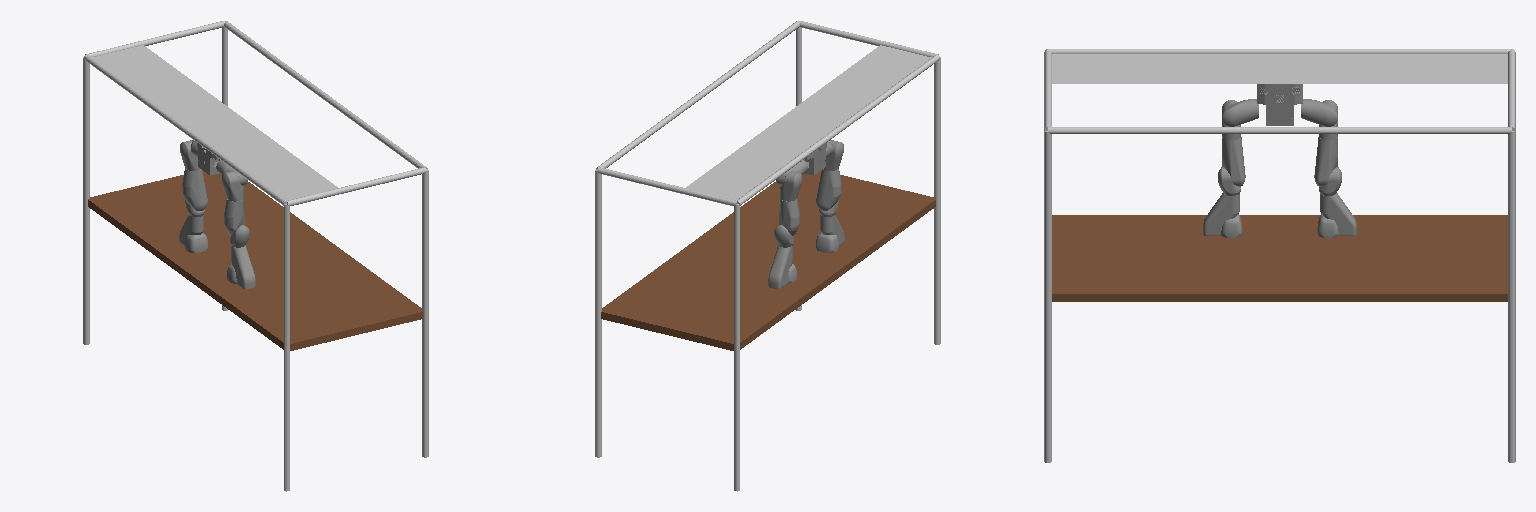
--- Render facts (derived) ---
3 views of the same robot in one strip: view 1: azimuth 30°, elevation 25°; view 2: azimuth 150°, elevation 25°; view 3: azimuth 270°, elevation 25° (orthographic).
Model repair_full with 43 links and 42 joints (15 revolute, 27 fixed), rooted at world, posed every joint at zero.
Visible links, largest first — view 1: table_top_link, sliding_guide_link, obar4_link, obar3_link, leg3_link, leg2_link, vbar3_link, vbar2_link, obar2_link, leg4_link, vbar4_link, arm_1_3 (+3 smaller); view 2: table_top_link, sliding_guide_link, obar4_link, obar3_link, leg1_link, leg4_link, vbar1_link, vbar4_link, obar1_link, leg2_link, vbar2_link, arm_2_3 (+3 smaller); view 3: table_top_link, sliding_guide_link, obar3_link, obar4_link, torso_1, leg1_link, leg3_link, vbar1_link, vbar3_link, arm_2_5, arm_1_5, arm_2_3 (+5 smaller).
Boxes of the visible links, x1,y1,x2,y2 form: table_top_link: (88,170,422,350); sliding_guide_link: (92,45,337,200); obar4_link: (84,55,286,205); obar3_link: (224,21,427,169); leg3_link: (422,312,428,457); leg2_link: (83,199,89,344); vbar3_link: (422,170,428,311); vbar2_link: (83,57,89,199); obar2_link: (287,167,426,205); leg4_link: (284,346,289,491); vbar4_link: (284,204,289,345); arm_1_3: (182,169,207,210); table_top_link: (601,170,935,350); sliding_guide_link: (686,45,931,200); obar4_link: (737,55,939,205); obar3_link: (596,21,799,169); leg1_link: (595,312,601,457); leg4_link: (934,199,940,344); vbar1_link: (595,170,601,311); vbar4_link: (934,57,940,199); obar1_link: (597,167,736,205); leg2_link: (734,346,739,491); vbar2_link: (734,204,739,345); arm_2_3: (816,169,841,210); table_top_link: (1052,215,1507,301); sliding_guide_link: (1052,54,1507,83); obar3_link: (1048,127,1511,133); obar4_link: (1049,49,1510,53); torso_1: (1257,84,1302,125); leg1_link: (1508,294,1515,462); leg3_link: (1044,294,1051,462); vbar1_link: (1508,131,1515,294); vbar3_link: (1044,131,1051,294); arm_2_5: (1203,193,1239,235); arm_1_5: (1320,193,1356,235); arm_2_3: (1222,137,1245,186).
Bounding box of the posed robot: 1.04 × 2.54 × 1.99 m (x, y, z).
15 mesh visuals loaded from 9 distinct referenced files (8 binary STL); not drawn: 1 (reference not matched to a file when rendering).

The robot description file, URDF, robot "repair_full":
<?xml version="1.0" ?>
<!-- =================================================================================== -->
<!-- |    This document was autogenerated by xacro from src/repair_ros_robot/repair_urdf/urdf/repair_full.urdf.xacro | -->
<!-- |    EDITING THIS FILE BY HAND IS NOT RECOMMENDED                                 | -->
<!-- =================================================================================== -->
<robot name="repair_full">
  <material name="grey">
    <color rgba="0.5 0.5 0.5 1"/>
  </material>
  <material name="dark_grey">
    <color rgba="0.3 0.3 0.3 1"/>
  </material>
  <material name="red">
    <color rgba="1.0 0.0 0.0 1"/>
  </material>
  <material name="green">
    <color rgba="0.0 1.0 0.0 1"/>
  </material>
  <material name="blue">
    <color rgba="0.13333333333333333 0.25882352941176473 0.7803921568627451 1.0"/>
  </material>
  <material name="darkblue">
    <color rgba="0.0 0.3 0.9 1"/>
  </material>
  <material name="darkred">
    <color rgba="0.55 0.0 0.0 1"/>
  </material>
  <material name="dark">
    <color rgba="0.6 0.6 0.6 1"/>
  </material>
  <material name="wood">
    <color rgba="0.522 0.369 0.259 0.8"/>
  </material>
  <material name="silver_gray">
    <color rgba="0.8 0.8 0.8 0.8"/>
  </material>
  <!-- macro for generating the urdf associated with a single arm of the RePair platform -->
  <!-- id: specifies the id of the arm (e.g. 0 for left arm and 1 for right) -->
  <!-- base_link: name of base link a the single arm -->
  <!-- is_sliding_wrist: whether to add a sliding joint along the wrist second d.o.f.
    (true -> yes), everything else -> no. This is used to generate the URDF for the optimization.  -->
  <!-- gen_coll: whether to add the approximate collision  model of the platform -->
  <!-- use_updated_wrist: visual parameter. if true, we load the latest meshes (which are adapted to the
results of the optimization), otherwise we go with the old ones (generated for a spherical wrist) -->
  <!-- w.r.t world  -->
  <!-- 0.0  -->
  <!-- 2.4405495 -->
  <!-- 7.8724534e-01 -->
  <!-- 2.8848438e+00-->
  <!-- 6.0145584e-01 -->
  <!-- 2.7650803e+00 -->
  <!-- 1.8854765e+00 -->
  <!-- 2.4405495 -->
  <!-- Origin -->
  <!-- Only when working with Gazebo Xbot Control -->
  <!-- DO NOT USE WITH ROS_CONTROL AND MOVEIT -->
  <!-- <xacro:include filename="$(find repair_urdf)/urdf/gazebo/xbot.gazebo.xacro" /> -->
  <gazebo>
    <plugin filename="libgazebo_ros_control.so" name="ros_control">
      <!--robotNamespace>/</robotNamespace-->
      <!--robotSimType>gazebo_ros_control/DefaultRobotHWSim</robotSimType-->
    </plugin>
  </gazebo>
  <link name="world"/>
  <link name="table_top_link">
    <visual>
      <origin xyz="0.0 0.0 0.975"/>
      <geometry>
        <box size="1.0 2.5 0.05"/>
      </geometry>
      <material name="wood"/>
    </visual>
    <collision>
      <origin xyz="0.0 0.0 0.975"/>
      <geometry>
        <box size="1.0 2.5 0.05"/>
      </geometry>
    </collision>
  </link>
  <joint name="table_top_link_joint" type="fixed">
    <parent link="world"/>
    <child link="table_top_link"/>
  </joint>
  <joint name="leg1_joint" type="fixed">
    <parent link="table_top_link"/>
    <origin rpy="0 0 0" xyz="0.5 1.25 1.0"/>
    <child link="leg1_link"/>
  </joint>
  <link name="leg1_link">
    <visual>
      <origin rpy="0 0 0" xyz="0.0 0.0 -0.5"/>
      <geometry>
        <cylinder length="1.0" radius="0.02"/>
      </geometry>
      <material name="silver_gray"/>
    </visual>
    <collision>
      <origin rpy="0.0 0.0 0.0" xyz="0.0 0.0 -0.5"/>
      <geometry>
        <cylinder length="1.0" radius="0.02"/>
      </geometry>
    </collision>
  </link>
  <joint name="vbar1_joint" type="fixed">
    <parent link="leg1_link"/>
    <origin rpy="0 0 0" xyz="0 0 0.485"/>
    <child link="vbar1_link"/>
  </joint>
  <link name="vbar1_link">
    <visual>
      <origin rpy="0 0 0" xyz="0.0 0.0 0"/>
      <geometry>
        <cylinder length="0.97" radius="0.02"/>
      </geometry>
      <material name="silver_gray"/>
    </visual>
    <collision>
      <origin rpy="0.0 0.0 0.0" xyz="0.0 0.0 0"/>
      <geometry>
        <cylinder length="0.97" radius="0.02"/>
      </geometry>
    </collision>
  </link>
  <joint name="leg2_joint" type="fixed">
    <parent link="table_top_link"/>
    <origin rpy="0 0 0" xyz="-0.5 1.25 1.0"/>
    <child link="leg2_link"/>
  </joint>
  <link name="leg2_link">
    <visual>
      <origin rpy="0 0 0" xyz="0.0 0.0 -0.5"/>
      <geometry>
        <cylinder length="1.0" radius="0.02"/>
      </geometry>
      <material name="silver_gray"/>
    </visual>
    <collision>
      <origin rpy="0.0 0.0 0.0" xyz="0.0 0.0 -0.5"/>
      <geometry>
        <cylinder length="1.0" radius="0.02"/>
      </geometry>
    </collision>
  </link>
  <joint name="vbar2_joint" type="fixed">
    <parent link="leg2_link"/>
    <origin rpy="0 0 0" xyz="0 0 0.485"/>
    <child link="vbar2_link"/>
  </joint>
  <link name="vbar2_link">
    <visual>
      <origin rpy="0 0 0" xyz="0.0 0.0 0"/>
      <geometry>
        <cylinder length="0.97" radius="0.02"/>
      </geometry>
      <material name="silver_gray"/>
    </visual>
    <collision>
      <origin rpy="0.0 0.0 0.0" xyz="0.0 0.0 0"/>
      <geometry>
        <cylinder length="0.97" radius="0.02"/>
      </geometry>
    </collision>
  </link>
  <joint name="leg3_joint" type="fixed">
    <parent link="table_top_link"/>
    <origin rpy="0 0 0" xyz="0.5 -1.25 1.0"/>
    <child link="leg3_link"/>
  </joint>
  <link name="leg3_link">
    <visual>
      <origin rpy="0 0 0" xyz="0.0 0.0 -0.5"/>
      <geometry>
        <cylinder length="1.0" radius="0.02"/>
      </geometry>
      <material name="silver_gray"/>
    </visual>
    <collision>
      <origin rpy="0.0 0.0 0.0" xyz="0.0 0.0 -0.5"/>
      <geometry>
        <cylinder length="1.0" radius="0.02"/>
      </geometry>
    </collision>
  </link>
  <joint name="vbar3_joint" type="fixed">
    <parent link="leg3_link"/>
    <origin rpy="0 0 0" xyz="0 0 0.485"/>
    <child link="vbar3_link"/>
  </joint>
  <link name="vbar3_link">
    <visual>
      <origin rpy="0 0 0" xyz="0.0 0.0 0"/>
      <geometry>
        <cylinder length="0.97" radius="0.02"/>
      </geometry>
      <material name="silver_gray"/>
    </visual>
    <collision>
      <origin rpy="0.0 0.0 0.0" xyz="0.0 0.0 0"/>
      <geometry>
        <cylinder length="0.97" radius="0.02"/>
      </geometry>
    </collision>
  </link>
  <joint name="leg4_joint" type="fixed">
    <parent link="table_top_link"/>
    <origin rpy="0 0 0" xyz="-0.5 -1.25 1.0"/>
    <child link="leg4_link"/>
  </joint>
  <link name="leg4_link">
    <visual>
      <origin rpy="0 0 0" xyz="0.0 0.0 -0.5"/>
      <geometry>
        <cylinder length="1.0" radius="0.02"/>
      </geometry>
      <material name="silver_gray"/>
    </visual>
    <collision>
      <origin rpy="0.0 0.0 0.0" xyz="0.0 0.0 -0.5"/>
      <geometry>
        <cylinder length="1.0" radius="0.02"/>
      </geometry>
    </collision>
  </link>
  <joint name="vbar4_joint" type="fixed">
    <parent link="leg4_link"/>
    <origin rpy="0 0 0" xyz="0 0 0.485"/>
    <child link="vbar4_link"/>
  </joint>
  <link name="vbar4_link">
    <visual>
      <origin rpy="0 0 0" xyz="0.0 0.0 0"/>
      <geometry>
        <cylinder length="0.97" radius="0.02"/>
      </geometry>
      <material name="silver_gray"/>
    </visual>
    <collision>
      <origin rpy="0.0 0.0 0.0" xyz="0.0 0.0 0"/>
      <geometry>
        <cylinder length="0.97" radius="0.02"/>
      </geometry>
    </collision>
  </link>
  <joint name="obar1_joint" type="fixed">
    <parent link="vbar1_link"/>
    <origin rpy="0 -1.57079632679 0" xyz="-0.5 0 0.485"/>
    <child link="obar1_link"/>
  </joint>
  <link name="obar1_link">
    <visual>
      <origin rpy="0 0 0" xyz="0.0 0.0 0"/>
      <geometry>
        <cylinder length="1.0" radius="0.02"/>
      </geometry>
      <material name="silver_gray"/>
    </visual>
    <collision>
      <origin rpy="0.0 0.0 0.0" xyz="0.0 0.0 0"/>
      <geometry>
        <cylinder length="1.0" radius="0.02"/>
      </geometry>
    </collision>
  </link>
  <joint name="obar2_joint" type="fixed">
    <parent link="vbar3_link"/>
    <origin rpy="0 -1.57079632679 0" xyz="-0.5 0 0.485"/>
    <child link="obar2_link"/>
  </joint>
  <link name="obar2_link">
    <visual>
      <origin rpy="0 0 0" xyz="0.0 0.0 0"/>
      <geometry>
        <cylinder length="1.0" radius="0.02"/>
      </geometry>
      <material name="silver_gray"/>
    </visual>
    <collision>
      <origin rpy="0.0 0.0 0.0" xyz="0.0 0.0 0"/>
      <geometry>
        <cylinder length="1.0" radius="0.02"/>
      </geometry>
    </collision>
  </link>
  <joint name="obar3_joint" type="fixed">
    <parent link="vbar3_link"/>
    <origin rpy="-1.57079632679 0 0" xyz="0 1.25 0.485"/>
    <child link="obar3_link"/>
  </joint>
  <link name="obar3_link">
    <visual>
      <origin rpy="0 0 0" xyz="0.0 0.0 0"/>
      <geometry>
        <cylinder length="2.5" radius="0.02"/>
      </geometry>
      <material name="silver_gray"/>
    </visual>
    <collision>
      <origin rpy="0.0 0.0 0.0" xyz="0.0 0.0 0"/>
      <geometry>
        <cylinder length="2.5" radius="0.02"/>
      </geometry>
    </collision>
  </link>
  <joint name="obar4_joint" type="fixed">
    <parent link="vbar4_link"/>
    <origin rpy="-1.57079632679 0 0" xyz="0 1.25 0.485"/>
    <child link="obar4_link"/>
  </joint>
  <link name="obar4_link">
    <!-- dummy intertia to make Gazebo urdf2sdf converter work -->
    <visual>
      <origin rpy="0 0 0" xyz="0.0 0.0 0"/>
      <geometry>
        <cylinder length="2.5" radius="0.02"/>
      </geometry>
      <material name="silver_gray"/>
    </visual>
    <collision>
      <origin rpy="0.0 0.0 0.0" xyz="0.0 0.0 0"/>
      <geometry>
        <cylinder length="2.5" radius="0.02"/>
      </geometry>
    </collision>
  </link>
  <joint name="sliding_guide_joint" type="fixed">
    <parent link="obar2_link"/>
    <origin rpy="-1.57079632679 0 0" xyz="0.0 1.25 0.3"/>
    <child link="sliding_guide_link"/>
  </joint>
  <link name="sliding_guide_link">
    <visual>
      <origin rpy="0 0 0" xyz="0.0 0.0 0"/>
      <geometry>
        <box size="0.001 0.4 2.5"/>
      </geometry>
      <material name="silver_gray"/>
    </visual>
    <collision>
      <origin rpy="0.0 0.0 0.0" xyz="0.0 0.0 0"/>
      <geometry>
        <cylinder length="2.5" radius="0.02"/>
      </geometry>
    </collision>
  </link>
  <joint name="working_surface_joint" type="fixed">
    <parent link="sliding_guide_link"/>
    <origin rpy="0.0 -1.57079632679 3.14159265359" xyz="-0.97 0 0"/>
    <child link="working_surface_link"/>
  </joint>
  <link name="working_surface_link">
    <!-- Huge inertia (does not matter, is fixed to the world)-->
    <inertial>
      <mass value="1000"/>
      <origin xyz="0 0 0"/>
      <inertia ixx="0" ixy="0" ixz="0" iyy="0" iyz="0" izz="0"/>
    </inertial>
  </link>
  <material name="camera_aluminum">
    <color rgba="0.5 0.5 0.5 1"/>
  </material>
  <!-- camera body, with origin at bottom screw mount -->
  <joint name="camera_joint" type="fixed">
    <origin rpy="0.0009783 1.1836725 0" xyz="0.0857 0.0000476009 -0.273184"/>
    <parent link="torso_1"/>
    <child link="camera_bottom_screw_frame"/>
  </joint>
  <link name="camera_bottom_screw_frame"/>
  <joint name="camera_link_joint" type="fixed">
    <origin rpy="0 0 0" xyz="0 0.0175 0.0125"/>
    <parent link="camera_bottom_screw_frame"/>
    <child link="camera_link"/>
  </joint>
  <link name="camera_link">
    <visual>
      <origin rpy="1.5707963267948966 0 1.5707963267948966" xyz="0.0149 -0.0175 0"/>
      <geometry>
        <!-- <box size="${d435_cam_width} ${d435_cam_height} ${d435_cam_depth}"/> -->
        <mesh filename="package://repair_urdf/meshes/d435.dae"/>
        <!--<mesh filename="package://realsense2_description/meshes/d435/d435.dae" />-->
      </geometry>
      <material name="camera_aluminum"/>
    </visual>
    <collision>
      <origin rpy="0 0 0" xyz="0 -0.0175 0"/>
      <geometry>
        <box size="0.02505 0.09 0.025"/>
      </geometry>
    </collision>
    <inertial>
      <!-- The following are not reliable values, and should not be used for modeling -->
      <mass value="0.564"/>
      <origin xyz="0 0 0"/>
      <inertia ixx="0.003881243" ixy="0.0" ixz="0.0" iyy="0.000498940" iyz="0.0" izz="0.003879257"/>
    </inertial>
  </link>
  <!-- camera depth joints and links -->
  <joint name="camera_depth_joint" type="fixed">
    <origin rpy="0 0 0" xyz="0 0 0"/>
    <parent link="camera_link"/>
    <child link="camera_depth_frame"/>
  </joint>
  <link name="camera_depth_frame"/>
  <joint name="camera_depth_optical_joint" type="fixed">
    <origin rpy="-1.5707963267948966 0 -1.5707963267948966" xyz="0 0 0"/>
    <parent link="camera_depth_frame"/>
    <child link="camera_depth_optical_frame"/>
  </joint>
  <link name="camera_depth_optical_frame"/>
  <!-- camera left IR joints and links -->
  <joint name="camera_left_ir_joint" type="fixed">
    <origin rpy="0 0 0" xyz="0 0.0 0"/>
    <parent link="camera_depth_frame"/>
    <child link="camera_left_ir_frame"/>
  </joint>
  <link name="camera_left_ir_frame"/>
  <joint name="camera_left_ir_optical_joint" type="fixed">
    <origin rpy="-1.5707963267948966 0 -1.5707963267948966" xyz="0 0 0"/>
    <parent link="camera_left_ir_frame"/>
    <child link="camera_left_ir_optical_frame"/>
  </joint>
  <link name="camera_left_ir_optical_frame"/>
  <!-- camera right IR joints and links -->
  <joint name="camera_right_ir_joint" type="fixed">
    <origin rpy="0 0 0" xyz="0 -0.05 0"/>
    <parent link="camera_depth_frame"/>
    <child link="camera_right_ir_frame"/>
  </joint>
  <link name="camera_right_ir_frame"/>
  <joint name="camera_right_ir_optical_joint" type="fixed">
    <origin rpy="-1.5707963267948966 0 -1.5707963267948966" xyz="0 0 0"/>
    <parent link="camera_right_ir_frame"/>
    <child link="camera_right_ir_optical_frame"/>
  </joint>
  <link name="camera_right_ir_optical_frame"/>
  <!-- camera color joints and links -->
  <joint name="camera_color_joint" type="fixed">
    <origin rpy="0 0 0" xyz="0 0.015 0"/>
    <parent link="camera_depth_frame"/>
    <child link="camera_color_frame"/>
  </joint>
  <link name="camera_color_frame"/>
  <joint name="camera_color_optical_joint" type="fixed">
    <origin rpy="-1.5707963267948966 0 -1.5707963267948966" xyz="0 0 0"/>
    <parent link="camera_color_frame"/>
    <child link="camera_color_optical_frame"/>
  </joint>
  <link name="camera_color_optical_frame"/>
  <gazebo reference="camera_link">
    <self_collide>0</self_collide>
    <enable_wind>0</enable_wind>
    <kinematic>0</kinematic>
    <gravity>1</gravity>
    <!--<mu>1</mu>-->
    <mu2>1</mu2>
    <fdir1>0 0 0</fdir1>
    <!--<slip1>0</slip1>
      <slip2>0</slip2>-->
    <kp>1e+13</kp>
    <kd>1</kd>
    <!--<max_vel>0.01</max_vel>
      <min_depth>0</min_depth>-->
    <sensor name="cameracolor" type="camera">
      <camera name="camera">
        <horizontal_fov>1.2112585008840648</horizontal_fov>
        <image>
          <width>640</width>
          <height>480</height>
          <format>RGB_INT8</format>
        </image>
        <clip>
          <near>0.1</near>
          <far>100</far>
        </clip>
        <noise>
          <type>gaussian</type>
          <mean>0.0</mean>
          <stddev>0.007</stddev>
        </noise>
      </camera>
      <always_on>1</always_on>
      <update_rate>30</update_rate>
      <visualize>1</visualize>
    </sensor>
    <sensor name="cameraired1" type="camera">
      <camera name="camera">
        <horizontal_fov>1.4870205226991688</horizontal_fov>
        <image>
          <width>1280</width>
          <height>720</height>
          <format>L_INT8</format>
        </image>
        <clip>
          <near>0.1</near>
          <far>100</far>
        </clip>
        <noise>
          <type>gaussian</type>
          <mean>0.0</mean>
          <stddev>0.05</stddev>
        </noise>
      </camera>
      <always_on>1</always_on>
      <update_rate>90</update_rate>
      <visualize>0</visualize>
    </sensor>
    <sensor name="cameraired2" type="camera">
      <camera name="camera">
        <horizontal_fov>1.4870205226991688</horizontal_fov>
        <image>
          <width>1280</width>
          <height>720</height>
          <format>L_INT8</format>
        </image>
        <clip>
          <near>0.1</near>
          <far>100</far>
        </clip>
        <noise>
          <type>gaussian</type>
          <mean>0.0</mean>
          <stddev>0.05</stddev>
        </noise>
      </camera>
      <always_on>1</always_on>
      <update_rate>90</update_rate>
      <visualize>0</visualize>
    </sensor>
    <sensor name="cameradepth" type="depth">
      <camera name="camera">
        <horizontal_fov>1.4870205226991688</horizontal_fov>
        <image>
          <width>1280</width>
          <height>720</height>
        </image>
        <clip>
          <near>0.1</near>
          <far>100</far>
        </clip>
        <noise>
          <type>gaussian</type>
          <mean>0.0</mean>
          <stddev>0.100</stddev>
        </noise>
      </camera>
      <always_on>1</always_on>
      <update_rate>90</update_rate>
      <visualize>0</visualize>
    </sensor>
  </gazebo>
  <gazebo>
    <plugin filename="librealsense_gazebo_plugin.so" name="camera">
      <prefix>camera</prefix>
      <depthUpdateRate>30.0</depthUpdateRate>
      <colorUpdateRate>30.0</colorUpdateRate>
      <infraredUpdateRate>30.0</infraredUpdateRate>
      <depthTopicName>depth/image_raw</depthTopicName>
      <depthCameraInfoTopicName>depth/camera_info</depthCameraInfoTopicName>
      <colorTopicName>color/image_raw</colorTopicName>
      <colorCameraInfoTopicName>color/camera_info</colorCameraInfoTopicName>
      <infrared1TopicName>infra1/image_raw</infrared1TopicName>
      <infrared1CameraInfoTopicName>infra1/camera_info</infrared1CameraInfoTopicName>
      <infrared2TopicName>infra2/image_raw</infrared2TopicName>
      <infrared2CameraInfoTopicName>infra2/camera_info</infrared2CameraInfoTopicName>
      <colorOpticalframeName>camera_color_optical_frame</colorOpticalframeName>
      <depthOpticalframeName>camera_depth_optical_frame</depthOpticalframeName>
      <infrared1OpticalframeName>camera_left_ir_optical_frame</infrared1OpticalframeName>
      <infrared2OpticalframeName>camera_right_ir_optical_frame</infrared2OpticalframeName>
      <rangeMinDepth>0.2</rangeMinDepth>
      <rangeMaxDepth>1.0</rangeMaxDepth>
      <pointCloud>True</pointCloud>
      <pointCloudTopicName>depth/color/points</pointCloudTopicName>
      <pointCloudCutoff>0.25</pointCloudCutoff>
      <pointCloudCutoffMax>1.0</pointCloudCutoffMax>
    </plugin>
  </gazebo>
  <!-- <link name="dummy_prismatic_link"/> -->
  <link name="torso_1">
    <inertial>
      <origin xyz="0.0004977651 -0.00042604032 -0.16838189"/>
      <mass value="8.7077745"/>
      <inertia ixx="0.11857828999999999" ixy="2.0401988e-05" ixz="1.2279510999999998e-05" iyy="0.08073399199999999" iyz="7.0011267999999996e-06" izz="0.054100211999999995"/>
    </inertial>
    <visual>
      <geometry>
        <mesh filename="package://repair_urdf/meshes/mesh_torso-yaw.stl" scale="0.001 0.001 0.001"/>
      </geometry>
      <material name="dark"/>
    </visual>
    <collision>
      <geometry>
        <mesh filename="package://repair_urdf/meshes/simplified/mesh_torso-yaw.stl" scale="0.001 0.001 0.001"/>
      </geometry>
    </collision>
  </link>
  <!-- <joint name="j_torso_base" type="fixed">
            <xacro:insert_block name="origin" />
            <parent link="${parent}" />
            <child link="dummy_prismatic_link"/>
            <axis xyz="0 0 1"/>
            <limit lower="${j_prismatic_lower[0]/2}" upper= "${j_prismatic_upper[0]/2}" effort="${j_prismatic_torque[0]}" velocity="${j_prismatic_velocity[0]}"/>
        </joint> -->
  <!-- torso -->
  <joint name="j_torso_1" type="revolute">
    <parent link="sliding_guide_link"/>
    <child link="torso_1"/>
    <axis xyz="0 0 1"/>
    <origin rpy="1.570796326795 0.0 1.570796326795" xyz="0.0 0.0 0.0"/>
    <limit effort="147.0" lower="-2.6" upper="2.6" velocity="3.86"/>
  </joint>
  <!-- torso  -->
  <link name="arm_2_1">
    <inertial>
      <origin xyz="0.010200651000000002 -0.021560998 0.09876702500000001"/>
      <mass value="2.347"/>
      <inertia ixx="0.007192915699999999" ixy="7.854318399999999e-05" ixz="-0.00039791235999999997" iyy="0.009471160999999999" iyz="0.0012857050999999999" izz="0.0058530904"/>
    </inertial>
    <visual>
      <geometry>
        <mesh filename="package://repair_urdf/meshes/simplified/mesh_sh-pitch.stl" scale="0.001 0.001 0.001"/>
      </geometry>
      <material name="dark"/>
    </visual>
    <collision name="arm_2_1_collision">
      <geometry>
        <mesh filename="package://repair_urdf/meshes/simplified/mesh_sh-pitch.stl" scale="0.001 0.001 0.001"/>
      </geometry>
    </collision>
  </link>
  <link name="arm_2_2">
    <inertial>
      <origin xyz="4.5955243e-05 -0.044957128 -0.030791013"/>
      <mass value="0.76"/>
      <inertia ixx="0.0027927572" ixy="-2.0135067e-06" ixz="-1.3644218e-06" iyy="0.0019288488" iyz="-0.00066693438" izz="0.0026633366"/>
    </inertial>
    <visual>
      <geometry>
        <mesh filename="package://repair_urdf/meshes/simplified/mesh_sh-roll.stl" scale="0.001 0.001 0.001"/>
      </geometry>
      <material name="dark"/>
    </visual>
    <collision name="arm_2_2_collision">
      <geometry>
        <mesh filename="package://repair_urdf/meshes/simplified/mesh_sh-roll.stl" scale="0.001 0.001 0.001"/>
      </geometry>
    </collision>
  </link>
  <link name="arm_2_3">
    <inertial>
      <origin xyz="0.005099315 0.0059986523 -0.18011742"/>
      <mass value="3.34"/>
      <inertia ixx="0.031298784999999996" ixy="-0.00025158367" ixz="0.002371127" iyy="0.031963501" iyz="0.0018728041" izz="0.0026332359"/>
    </inertial>
    <visual>
      <geometry>
        <mesh filename="package://repair_urdf/meshes/simplified/mesh_sh-yaw.stl" scale="0.001 0.001 0.001"/>
      </geometry>
      <material name="dark"/>
    </visual>
    <collision name="arm_2_3_collision">
      <geometry>
        <mesh filename="package://repair_urdf/meshes/simplified/mesh_sh-yaw.stl" scale="0.001 0.001 0.001"/>
      </geometry>
    </collision>
  </link>
  <link name="arm_2_4">
    <inertial>
      <origin xyz="3.332275e-06 -0.033289421 -0.023682302"/>
      <mass value="0.55"/>
      <inertia ixx="0.0016198328" ixy="-1.2642724e-06" ixz="-1.1734799e-06" iyy="0.0012266731" iyz="-0.00039531700999999997" izz="0.0016081346"/>
    </inertial>
    <visual>
      <geometry>
        <mesh filename="package://repair_urdf/meshes/simplified/mesh_elbow.stl" scale="0.001 0.001 0.001"/>
      </geometry>
      <material name="dark"/>
    </visual>
    <collision name="arm_2_4_collision">
      <geometry>
        <mesh filename="package://repair_urdf/meshes/simplified/mesh_elbow.stl" scale="0.001 0.001 0.001"/>
      </geometry>
    </collision>
  </link>
  <link name="arm_2_5">
    <inertial>
      <origin xyz="0.00094711044 -0.048009667 -0.14331833"/>
      <mass value="2.825"/>
      <inertia ixx="0.030333275" ixy="7.3729709e-05" ixz="3.2427371e-05" iyy="0.025195444999999997" iyz="-0.0095263763" izz="0.0069975103999999995"/>
    </inertial>
    <visual>
      <geometry>
        <mesh filename="package://repair_urdf/meshes/simplified/mesh_forearm-yaw.stl" scale="0.001 0.001 0.001"/>
      </geometry>
      <material name="dark"/>
    </visual>
    <collision name="arm_2_5_collision">
      <geometry>
        <mesh filename="package://repair_urdf/meshes/simplified/mesh_forearm-yaw.stl" scale="0.001 0.001 0.001"/>
      </geometry>
    </collision>
  </link>
  <link name="arm_2_6">
    <inertial>
      <origin xyz="0.00068559302 -0.0050299682 0.046682846"/>
      <mass value="1.861"/>
      <inertia ixx="0.0042406037" ixy="-5.5692732e-05" ixz="-9.085198200000001e-05" iyy="0.0029010805999999997" iyz="-0.00018560541" izz="0.0044989008"/>
    </inertial>
    <visual>
      <geometry>
        <mesh filename="package://repair_urdf/meshes/simplified/mesh_wrist-pitch.stl" scale="0.001 0.001 0.001"/>
      </geometry>
      <material name="dark"/>
    </visual>
    <collision name="arm_2_6_collision">
      <geometry>
        <mesh filename="package://repair_urdf/meshes/simplified/mesh_wrist-pitch.stl" scale="0.001 0.001 0.001"/>
      </geometry>
    </collision>
  </link>
  <link name="arm_2_7">
    <inertial>
      <origin xyz="0.0 -0.0010491951 -0.010307299"/>
      <mass value="0.1416397"/>
      <inertia ixx="6.1479333e-05" ixy="-7.4023399e-11" ixz="0.0" iyy="6.4247521e-05" iyz="4.778644799999999e-07" izz="0.00011879743999999998"/>
    </inertial>
    <visual>
      <geometry>
        <mesh filename="package://repair_urdf/meshes/simplified/mesh_wrist-roll.stl" scale="0.001 0.001 0.001"/>
      </geometry>
      <material name="dark"/>
    </visual>
    <collision name="arm_2_7_collision">
      <geometry>
        <mesh filename="package://repair_urdf/meshes/simplified/mesh_wrist-roll.stl" scale="0.001 0.001 0.001"/>
      </geometry>
    </collision>
  </link>
  <link name="arm_2_tcp">
    <inertial>
      <origin xyz="0.0 0.05 0.1"/>
      <mass value="0.5"/>
      <inertia ixx="0.001" ixy="0.0" ixz="0.0" iyy="0.001" iyz="0.0" izz="0.001"/>
    </inertial>
  </link>
  <!-- JOINTS -->
  <!-- shoulder pitch -->
  <joint name="j_arm_2_1" type="revolute">
    <parent link="torso_1"/>
    <child link="arm_2_1"/>
    <axis xyz="0 0 1"/>
    <origin rpy="1.570796326795 0.0 0.0" xyz="0.0 -0.13515 -0.24215"/>
    <limit effort="147.0" lower="-2.6" upper="2.6" velocity="3.86"/>
  </joint>
  <!-- shoulder pitch -->
  <!-- shoulder yaw -->
  <joint name="j_arm_2_2" type="revolute">
    <parent link="arm_2_1"/>
    <child link="arm_2_2"/>
    <origin rpy="0.0 -1.570796326795 0.0" xyz="-0.06 -0.03 0.1255"/>
    <axis xyz="0 0 1"/>
    <!-- -1 -->
    <limit effort="147.0" lower="-0.1" upper="2.5" velocity="3.86"/>
  </joint>
  <!-- shoulder yaw -->
  <!-- shoulder yaw -->
  <joint name="j_arm_2_3" type="revolute">
    <parent link="arm_2_2"/>
    <child link="arm_2_3"/>
    <origin rpy="-1.570796326795 1.570796326795 0.0" xyz="0.0 -0.073 -0.06015"/>
    <axis xyz="0 0 -1"/>
    <!-- -1 -->
    <limit effort="147.0" lower="-2.6" upper="2.6" velocity="6.06"/>
  </joint>
  <!-- shoulder yaw -->
  <!-- elbow -->
  <joint name="j_arm_2_4" type="revolute">
    <parent link="arm_2_3"/>
    <child link="arm_2_4"/>
    <origin rpy="1.570796326795 0.0 0.0" xyz="0.0225 -0.05015 -0.29215"/>
    <axis xyz="0 0 1"/>
    <!-- -1 -->
    <limit effort="147.0" lower="-0.8" upper="2.4" velocity="6.06"/>
  </joint>
  <!-- elbow -->
  <!-- forearm yaw -->
  <joint name="j_arm_2_5" type="revolute">
    <parent link="arm_2_4"/>
    <child link="arm_2_5"/>
    <origin rpy="-1.570796326795 0.0 0.0" xyz="0.0 -0.0725 -0.05015"/>
    <axis xyz="0 0 -1"/>
    <!-- -1 -->
    <limit effort="55.0" lower="-2.8" upper="2.8" velocity="11.72"/>
  </joint>
  <!-- forearm yaw -->
  <!-- wrist pitch-->
  <joint name="j_arm_2_6" type="revolute">
    <parent link="arm_2_5"/>
    <child link="arm_2_6"/>
    <origin rpy="-1.570796326795 0.0 0.0" xyz="0.0 -0.05 -0.2475"/>
    <axis xyz="0 0 1"/>
    <limit effort="55.0" lower="-2.8" upper="2.1" velocity="11.72"/>
  </joint>
  <!-- wrist pitch-->
  <!-- wrist roll-->
  <joint name="j_arm_2_7" type="revolute">
    <parent link="arm_2_6"/>
    <child link="arm_2_7"/>
    <origin rpy="-1.570796326795 0.3316123 0.0" xyz="0.0 0.062877 0.05"/>
    <axis xyz="0 0 1"/>
    <limit effort="55.0" lower="-2.8" upper="2.8" velocity="11.72"/>
  </joint>
  <!-- /wrist roll-->
  <!-- virtual tip-->
  <joint name="j_tcp_2" type="fixed">
    <parent link="arm_2_7"/>
    <child link="arm_2_tcp"/>
    <origin rpy="0.0 0.0 0.0" xyz="0.0 0.0 0.0"/>
  </joint>
  <!-- virtual tip-->
  <transmission name="trans_j_arm_2_1">
    <type>transmission_interface/SimpleTransmission</type>
    <joint name="j_arm_2_1">
      <hardwareInterface>hardware_interface/PositionJointInterface</hardwareInterface>
    </joint>
    <actuator name="j_arm_2_1_motor">
      <hardwareInterface>hardware_interface/PositionJointInterface</hardwareInterface>
      <mechanicalReduction>1</mechanicalReduction>
    </actuator>
  </transmission>
  <transmission name="trans_j_arm_2_2">
    <type>transmission_interface/SimpleTransmission</type>
    <joint name="j_arm_2_2">
      <hardwareInterface>hardware_interface/PositionJointInterface</hardwareInterface>
    </joint>
    <actuator name="j_arm_2_2_motor">
      <hardwareInterface>hardware_interface/PositionJointInterface</hardwareInterface>
      <mechanicalReduction>1</mechanicalReduction>
    </actuator>
  </transmission>
  <transmission name="trans_j_arm_2_3">
    <type>transmission_interface/SimpleTransmission</type>
    <joint name="j_arm_2_3">
      <hardwareInterface>hardware_interface/PositionJointInterface</hardwareInterface>
    </joint>
    <actuator name="j_arm_2_3_motor">
      <hardwareInterface>hardware_interface/PositionJointInterface</hardwareInterface>
      <mechanicalReduction>1</mechanicalReduction>
    </actuator>
  </transmission>
  <transmission name="trans_j_arm_2_4">
    <type>transmission_interface/SimpleTransmission</type>
    <joint name="j_arm_2_4">
      <hardwareInterface>hardware_interface/PositionJointInterface</hardwareInterface>
    </joint>
    <actuator name="j_arm_2_4_motor">
      <hardwareInterface>hardware_interface/PositionJointInterface</hardwareInterface>
      <mechanicalReduction>1</mechanicalReduction>
    </actuator>
  </transmission>
  <transmission name="trans_j_arm_2_5">
    <type>transmission_interface/SimpleTransmission</type>
    <joint name="j_arm_2_5">
      <hardwareInterface>hardware_interface/PositionJointInterface</hardwareInterface>
    </joint>
    <actuator name="j_arm_2_5_motor">
      <hardwareInterface>hardware_interface/PositionJointInterface</hardwareInterface>
      <mechanicalReduction>1</mechanicalReduction>
    </actuator>
  </transmission>
  <transmission name="trans_j_arm_2_6">
    <type>transmission_interface/SimpleTransmission</type>
    <joint name="j_arm_2_6">
      <hardwareInterface>hardware_interface/PositionJointInterface</hardwareInterface>
    </joint>
    <actuator name="j_arm_2_6_motor">
      <hardwareInterface>hardware_interface/PositionJointInterface</hardwareInterface>
      <mechanicalReduction>1</mechanicalReduction>
    </actuator>
  </transmission>
  <transmission name="trans_j_arm_2_7">
    <type>transmission_interface/SimpleTransmission</type>
    <joint name="j_arm_2_7">
      <hardwareInterface>hardware_interface/PositionJointInterface</hardwareInterface>
    </joint>
    <actuator name="j_arm_2_7_motor">
      <hardwareInterface>hardware_interface/PositionJointInterface</hardwareInterface>
      <mechanicalReduction>1</mechanicalReduction>
    </actuator>
  </transmission>
  <transmission name="trans_j_torso_1">
    <type>transmission_interface/SimpleTransmission</type>
    <joint name="j_torso_1">
      <hardwareInterface>hardware_interface/PositionJointInterface</hardwareInterface>
    </joint>
    <actuator name="j_torso_1_motor">
      <hardwareInterface>hardware_interface/PositionJointInterface</hardwareInterface>
      <mechanicalReduction>1</mechanicalReduction>
    </actuator>
  </transmission>
  <link name="arm_1_1">
    <inertial>
      <origin xyz="0.010200651000000002 0.021560998 0.09876702500000001"/>
      <mass value="2.347"/>
      <inertia ixx="0.007192915699999999" ixy="-7.854318399999999e-05" ixz="-0.00039791235999999997" iyy="0.009471160999999999" iyz="-0.0012857050999999999" izz="0.0058530904"/>
    </inertial>
    <visual>
      <geometry>
        <mesh filename="package://repair_urdf/meshes/simplified/mesh_sh-pitch.stl" scale="0.001 -0.001 0.001"/>
      </geometry>
      <material name="dark"/>
    </visual>
    <collision name="arm_1_1_collision">
      <geometry>
        <mesh filename="package://repair_urdf/meshes/simplified/mesh_sh-pitch.stl" scale="0.001 -0.001 0.001"/>
      </geometry>
    </collision>
  </link>
  <link name="arm_1_2">
    <inertial>
      <origin xyz="4.5955243e-05 0.044957128 -0.030791013"/>
      <mass value="0.76"/>
      <inertia ixx="0.0027927572" ixy="2.0135067e-06" ixz="-1.3644218e-06" iyy="0.0019288488" iyz="0.00066693438" izz="0.0026633366"/>
    </inertial>
    <visual>
      <geometry>
        <mesh filename="package://repair_urdf/meshes/simplified/mesh_sh-roll.stl" scale="0.001 -0.001 0.001"/>
      </geometry>
      <material name="dark"/>
    </visual>
    <collision name="arm_1_2_collision">
      <geometry>
        <mesh filename="package://repair_urdf/meshes/simplified/mesh_sh-roll.stl" scale="0.001 -0.001 0.001"/>
      </geometry>
    </collision>
  </link>
  <link name="arm_1_3">
    <inertial>
      <origin xyz="0.005099315 -0.0059986523 -0.18011742"/>
      <mass value="3.34"/>
      <inertia ixx="0.031298784999999996" ixy="0.00025158367" ixz="0.002371127" iyy="0.031963501" iyz="-0.0018728041" izz="0.0026332359"/>
    </inertial>
    <visual>
      <geometry>
        <mesh filename="package://repair_urdf/meshes/simplified/mesh_sh-yaw.stl" scale="0.001 -0.001 0.001"/>
      </geometry>
      <material name="dark"/>
    </visual>
    <collision name="arm_1_3_collision">
      <geometry>
        <mesh filename="package://repair_urdf/meshes/simplified/mesh_sh-yaw.stl" scale="0.001 -0.001 0.001"/>
      </geometry>
    </collision>
  </link>
  <link name="arm_1_4">
    <inertial>
      <origin xyz="3.332275e-06 0.033289421 -0.023682302"/>
      <mass value="0.55"/>
      <inertia ixx="0.0016198328" ixy="1.2642724e-06" ixz="-1.1734799e-06" iyy="0.0012266731" iyz="0.00039531700999999997" izz="0.0016081346"/>
    </inertial>
    <visual>
      <geometry>
        <mesh filename="package://repair_urdf/meshes/simplified/mesh_elbow.stl" scale="0.001 -0.001 0.001"/>
      </geometry>
      <material name="dark"/>
    </visual>
    <collision name="arm_1_4_collision">
      <geometry>
        <mesh filename="package://repair_urdf/meshes/simplified/mesh_elbow.stl" scale="0.001 -0.001 0.001"/>
      </geometry>
    </collision>
  </link>
  <link name="arm_1_5">
    <inertial>
      <origin xyz="0.00094711044 0.048009667 -0.14331833"/>
      <mass value="2.825"/>
      <inertia ixx="0.030333275" ixy="-7.3729709e-05" ixz="3.2427371e-05" iyy="0.025195444999999997" iyz="0.0095263763" izz="0.0069975103999999995"/>
    </inertial>
    <visual>
      <geometry>
        <mesh filename="package://repair_urdf/meshes/simplified/mesh_forearm-yaw.stl" scale="0.001 -0.001 0.001"/>
      </geometry>
      <material name="dark"/>
    </visual>
    <collision name="arm_1_5_collision">
      <geometry>
        <mesh filename="package://repair_urdf/meshes/simplified/mesh_forearm-yaw.stl" scale="0.001 -0.001 0.001"/>
      </geometry>
    </collision>
  </link>
  <link name="arm_1_6">
    <inertial>
      <origin xyz="0.00068559302 0.0050299682 0.046682846"/>
      <mass value="1.861"/>
      <inertia ixx="0.0042406037" ixy="5.5692732e-05" ixz="-9.085198200000001e-05" iyy="0.0029010805999999997" iyz="0.00018560541" izz="0.0044989008"/>
    </inertial>
    <visual>
      <geometry>
        <mesh filename="package://repair_urdf/meshes/simplified/mesh_wrist-pitch.stl" scale="0.001 -0.001 0.001"/>
      </geometry>
      <material name="dark"/>
    </visual>
    <collision name="arm_1_6_collision">
      <geometry>
        <mesh filename="package://repair_urdf/meshes/simplified/mesh_wrist-pitch.stl" scale="0.001 -0.001 0.001"/>
      </geometry>
    </collision>
  </link>
  <link name="arm_1_7">
    <inertial>
      <origin xyz="0.0 0.0010491951 -0.010307299"/>
      <mass value="0.1416397"/>
      <inertia ixx="6.1479333e-05" ixy="7.4023399e-11" ixz="0.0" iyy="6.4247521e-05" iyz="-4.778644799999999e-07" izz="0.00011879743999999998"/>
    </inertial>
    <visual>
      <geometry>
        <mesh filename="package://repair_urdf/meshes/simplified/mesh_wrist-roll.stl" scale="0.001 -0.001 0.001"/>
      </geometry>
      <material name="dark"/>
    </visual>
    <collision name="arm_1_7_collision">
      <geometry>
        <mesh filename="package://repair_urdf/meshes/simplified/mesh_wrist-roll.stl" scale="0.001 -0.001 0.001"/>
      </geometry>
    </collision>
  </link>
  <link name="arm_1_tcp">
    <inertial>
      <origin xyz="0.0 0.05 0.1"/>
      <mass value="0.5"/>
      <inertia ixx="0.001" ixy="0.0" ixz="0.0" iyy="0.001" iyz="0.0" izz="0.001"/>
    </inertial>
  </link>
  <!-- JOINTS -->
  <!-- shoulder pitch -->
  <joint name="j_arm_1_1" type="revolute">
    <parent link="torso_1"/>
    <child link="arm_1_1"/>
    <axis xyz="0 0 1"/>
    <origin rpy="-1.570796326795 0.0 0.0" xyz="0.0 0.13515 -0.24215"/>
    <limit effort="147.0" lower="-2.6" upper="2.6" velocity="3.86"/>
  </joint>
  <!-- shoulder pitch -->
  <!-- shoulder yaw -->
  <joint name="j_arm_1_2" type="revolute">
    <parent link="arm_1_1"/>
    <child link="arm_1_2"/>
    <origin rpy="-0.0 -1.570796326795 0.0" xyz="-0.06 0.03 0.1255"/>
    <axis xyz="0 0 1"/>
    <!-- -1 -->
    <limit effort="147.0" lower="-2.5" upper="0.1" velocity="3.86"/>
  </joint>
  <!-- shoulder yaw -->
  <!-- shoulder yaw -->
  <joint name="j_arm_1_3" type="revolute">
    <parent link="arm_1_2"/>
    <child link="arm_1_3"/>
    <origin rpy="1.570796326795 1.570796326795 0.0" xyz="0.0 0.073 -0.06015"/>
    <axis xyz="0 0 -1"/>
    <!-- -1 -->
    <limit effort="147.0" lower="-2.6" upper="2.6" velocity="6.06"/>
  </joint>
  <!-- shoulder yaw -->
  <!-- elbow -->
  <joint name="j_arm_1_4" type="revolute">
    <parent link="arm_1_3"/>
    <child link="arm_1_4"/>
    <origin rpy="-1.570796326795 0.0 0.0" xyz="0.0225 0.05015 -0.29215"/>
    <axis xyz="0 0 1"/>
    <!-- -1 -->
    <limit effort="147.0" lower="-2.4" upper="0.8" velocity="6.06"/>
  </joint>
  <!-- elbow -->
  <!-- forearm yaw -->
  <joint name="j_arm_1_5" type="revolute">
    <parent link="arm_1_4"/>
    <child link="arm_1_5"/>
    <origin rpy="1.570796326795 0.0 0.0" xyz="0.0 0.0725 -0.05015"/>
    <axis xyz="0 0 -1"/>
    <!-- -1 -->
    <limit effort="55.0" lower="-2.8" upper="2.8" velocity="11.72"/>
  </joint>
  <!-- forearm yaw -->
  <!-- wrist pitch-->
  <joint name="j_arm_1_6" type="revolute">
    <parent link="arm_1_5"/>
    <child link="arm_1_6"/>
    <origin rpy="1.570796326795 0.0 0.0" xyz="0.0 0.05 -0.2475"/>
    <axis xyz="0 0 1"/>
    <limit effort="55.0" lower="-2.1" upper="2.8" velocity="11.72"/>
  </joint>
  <!-- wrist pitch-->
  <!-- wrist roll-->
  <joint name="j_arm_1_7" type="revolute">
    <parent link="arm_1_6"/>
    <child link="arm_1_7"/>
    <origin rpy="1.570796326795 0.3316123 0.0" xyz="0.0 -0.062877 0.05"/>
    <axis xyz="0 0 1"/>
    <limit effort="55.0" lower="-2.8" upper="2.8" velocity="11.72"/>
  </joint>
  <!-- /wrist roll-->
  <!-- virtual tip-->
  <joint name="j_tcp_1" type="fixed">
    <parent link="arm_1_7"/>
    <child link="arm_1_tcp"/>
    <origin rpy="-0.0 0.0 0.0" xyz="0.0 -0.0 0.0"/>
  </joint>
  <!-- virtual tip-->
  <transmission name="trans_j_arm_1_1">
    <type>transmission_interface/SimpleTransmission</type>
    <joint name="j_arm_1_1">
      <hardwareInterface>hardware_interface/PositionJointInterface</hardwareInterface>
    </joint>
    <actuator name="j_arm_1_1_motor">
      <hardwareInterface>hardware_interface/PositionJointInterface</hardwareInterface>
      <mechanicalReduction>1</mechanicalReduction>
    </actuator>
  </transmission>
  <transmission name="trans_j_arm_1_2">
    <type>transmission_interface/SimpleTransmission</type>
    <joint name="j_arm_1_2">
      <hardwareInterface>hardware_interface/PositionJointInterface</hardwareInterface>
    </joint>
    <actuator name="j_arm_1_2_motor">
      <hardwareInterface>hardware_interface/PositionJointInterface</hardwareInterface>
      <mechanicalReduction>1</mechanicalReduction>
    </actuator>
  </transmission>
  <transmission name="trans_j_arm_1_3">
    <type>transmission_interface/SimpleTransmission</type>
    <joint name="j_arm_1_3">
      <hardwareInterface>hardware_interface/PositionJointInterface</hardwareInterface>
    </joint>
    <actuator name="j_arm_1_3_motor">
      <hardwareInterface>hardware_interface/PositionJointInterface</hardwareInterface>
      <mechanicalReduction>1</mechanicalReduction>
    </actuator>
  </transmission>
  <transmission name="trans_j_arm_1_4">
    <type>transmission_interface/SimpleTransmission</type>
    <joint name="j_arm_1_4">
      <hardwareInterface>hardware_interface/PositionJointInterface</hardwareInterface>
    </joint>
    <actuator name="j_arm_1_4_motor">
      <hardwareInterface>hardware_interface/PositionJointInterface</hardwareInterface>
      <mechanicalReduction>1</mechanicalReduction>
    </actuator>
  </transmission>
  <transmission name="trans_j_arm_1_5">
    <type>transmission_interface/SimpleTransmission</type>
    <joint name="j_arm_1_5">
      <hardwareInterface>hardware_interface/PositionJointInterface</hardwareInterface>
    </joint>
    <actuator name="j_arm_1_5_motor">
      <hardwareInterface>hardware_interface/PositionJointInterface</hardwareInterface>
      <mechanicalReduction>1</mechanicalReduction>
    </actuator>
  </transmission>
  <transmission name="trans_j_arm_1_6">
    <type>transmission_interface/SimpleTransmission</type>
    <joint name="j_arm_1_6">
      <hardwareInterface>hardware_interface/PositionJointInterface</hardwareInterface>
    </joint>
    <actuator name="j_arm_1_6_motor">
      <hardwareInterface>hardware_interface/PositionJointInterface</hardwareInterface>
      <mechanicalReduction>1</mechanicalReduction>
    </actuator>
  </transmission>
  <transmission name="trans_j_arm_1_7">
    <type>transmission_interface/SimpleTransmission</type>
    <joint name="j_arm_1_7">
      <hardwareInterface>hardware_interface/PositionJointInterface</hardwareInterface>
    </joint>
    <actuator name="j_arm_1_7_motor">
      <hardwareInterface>hardware_interface/PositionJointInterface</hardwareInterface>
      <mechanicalReduction>1</mechanicalReduction>
    </actuator>
  </transmission>
  <transmission name="trans_j_torso_1">
    <type>transmission_interface/SimpleTransmission</type>
    <joint name="j_torso_1">
      <hardwareInterface>hardware_interface/PositionJointInterface</hardwareInterface>
    </joint>
    <actuator name="j_torso_1_motor">
      <hardwareInterface>hardware_interface/PositionJointInterface</hardwareInterface>
      <mechanicalReduction>1</mechanicalReduction>
    </actuator>
  </transmission>
  <!--QUIRINO/GIANNIROS: here change the version for v1_2_research (small hand) or v1_wide (wide hand)-->
  <!-- <xacro:softhands 
        version="v1_2_research" 
        position="0 0 0" 
        orientation="${PI/2}" 
        fixed_hands="false">
    </xacro:softhands> -->
  <gazebo reference="table_top_link">
    <selfCollide>0</selfCollide>
  </gazebo>
  <!-- <xacro:repair_hand_transmission id="left" />

    <xacro:repair_hand_transmission id="right" /> -->
</robot>
